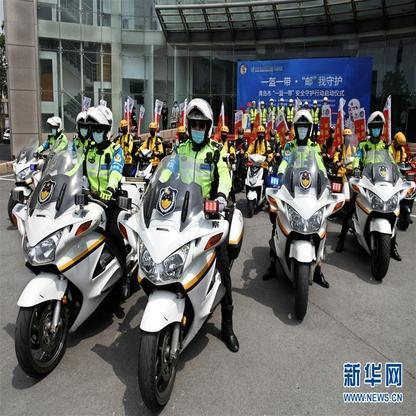target: (120, 99, 247, 413), (13, 104, 134, 381), (265, 110, 335, 323), (351, 110, 407, 283), (243, 124, 270, 219)
